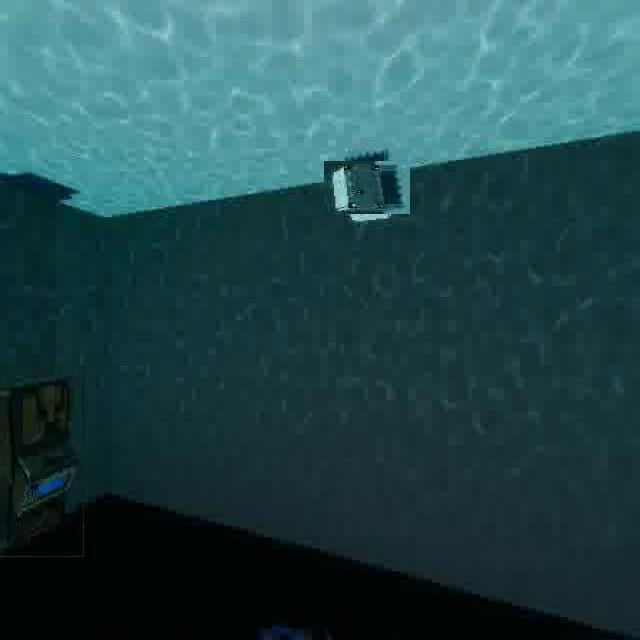Control Panel: (0, 365, 84, 557)
Docking Station: (332, 152, 402, 222)
